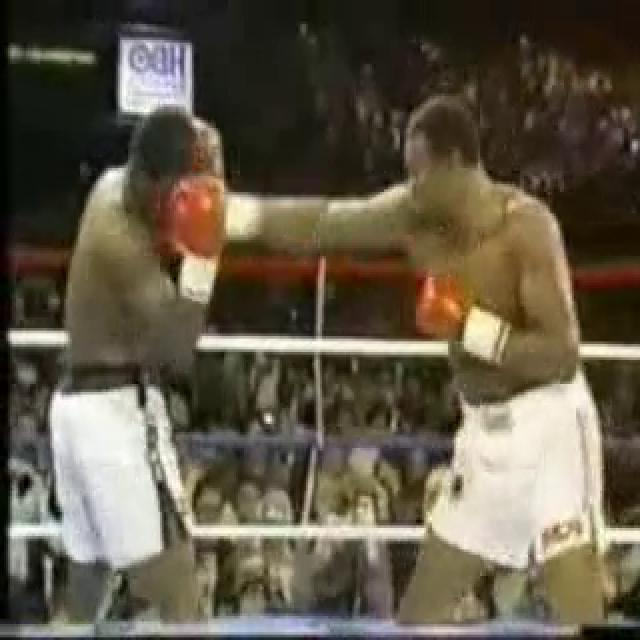violence: (55, 98, 603, 632)
